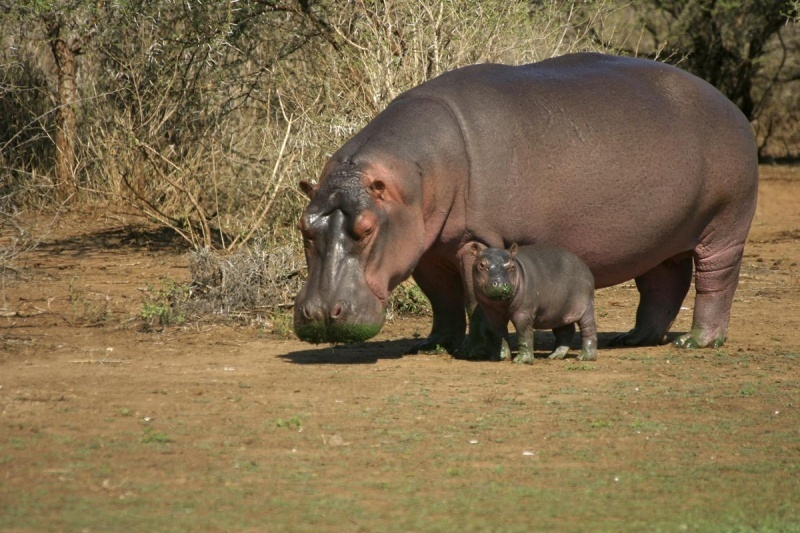hipopotamo: (295, 58, 763, 358), (456, 239, 606, 368)
